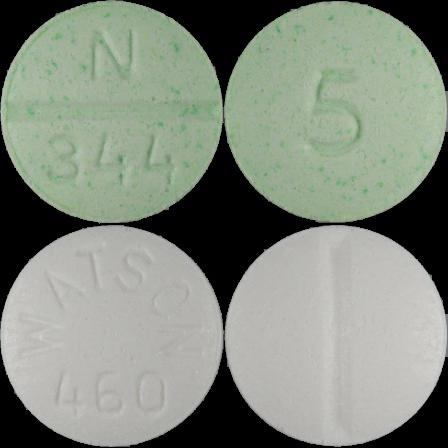63629-1393: (0, 0, 224, 224)
